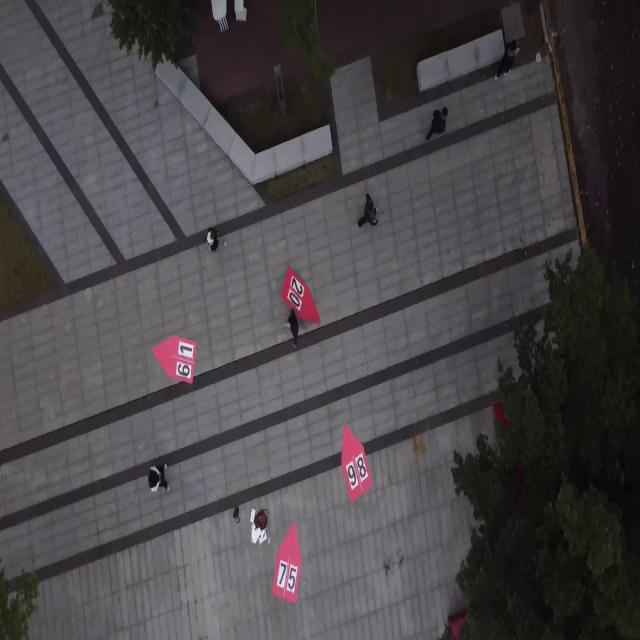-sign-: (340, 424, 372, 501), (152, 336, 198, 386), (274, 522, 302, 604), (282, 268, 320, 325)
